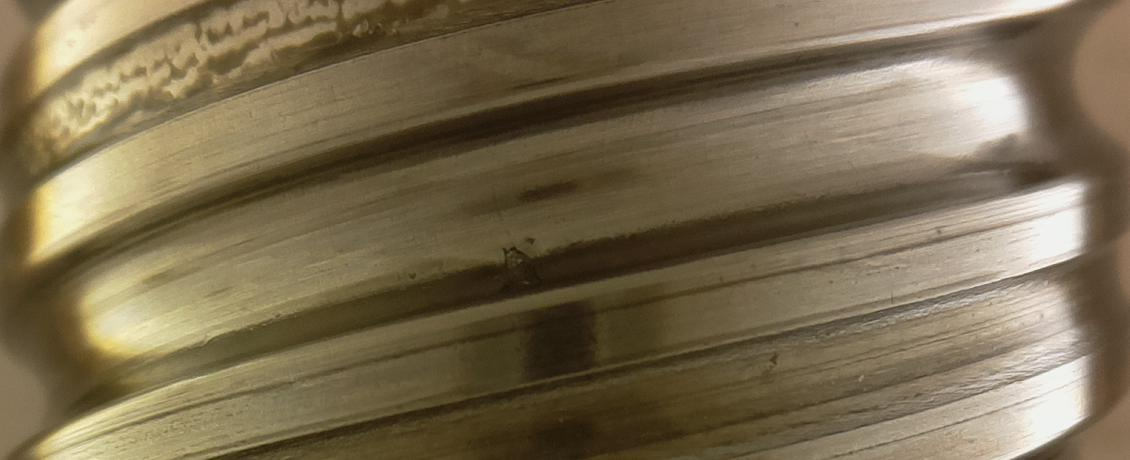pitting: (498, 245, 545, 294)
